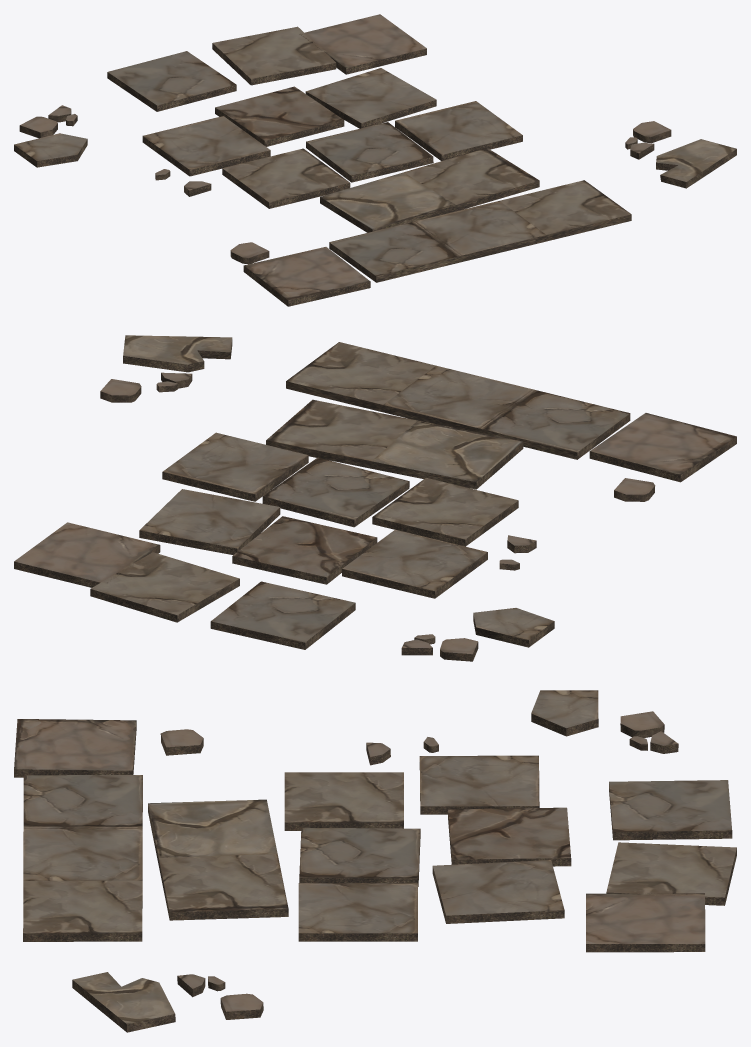
File: handan_field_a_n02a.fbx
The picture shows the model from 3 angles, top to bottom: view 1: azimuth 30°, elevation 25°; view 2: azimuth 150°, elevation 25°; view 3: azimuth 270°, elevation 25°; orthographic projection. The views are drawn at different scales.
Parts seen in each view (by area): view 1: handan_field_a_n02a; view 2: handan_field_a_n02a; view 3: handan_field_a_n02a.
Part boxes in pixels (<box>): handan_field_a_n02a: <box>14,14,736,306</box>; handan_field_a_n02a: <box>14,335,736,661</box>; handan_field_a_n02a: <box>14,690,736,1032</box>.
Size of the model in its own units: 519 by 9.06 by 475.
